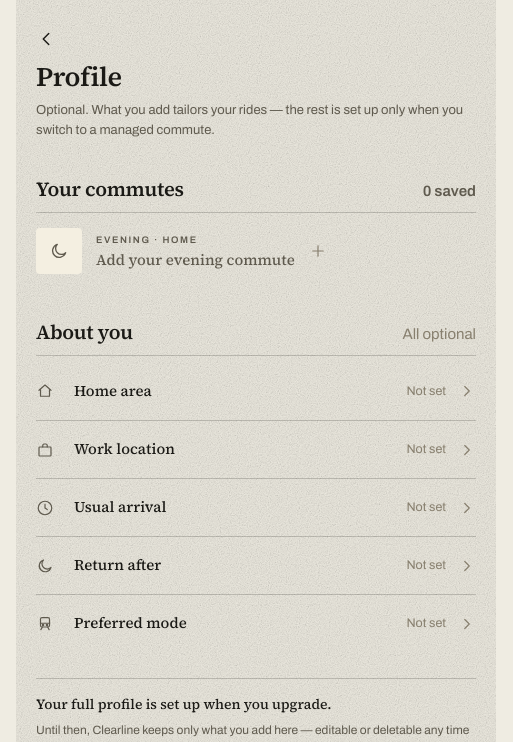
11 Profile › edits a field inline and PUTs it, then shows the new value
Click the button "Home area Not set" at (113, 390), box 36,362 -> 476,420
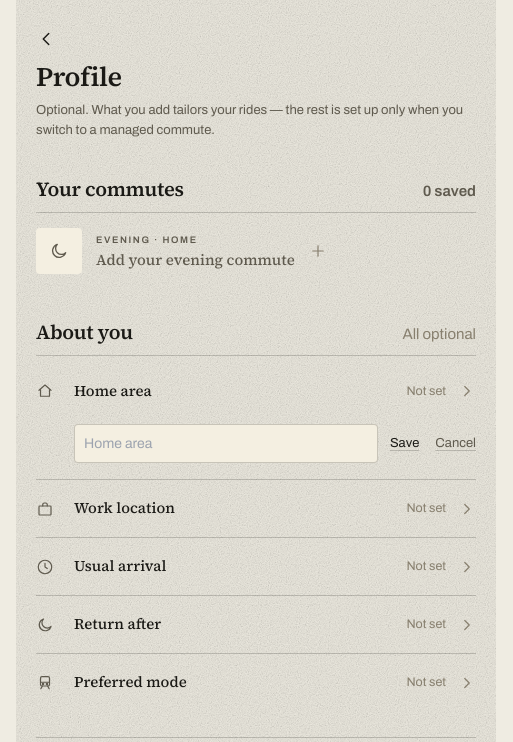
Type "Hauz Khas Enclave" into the field named "Set Home area" at (226, 444), box 74,424 -> 378,463
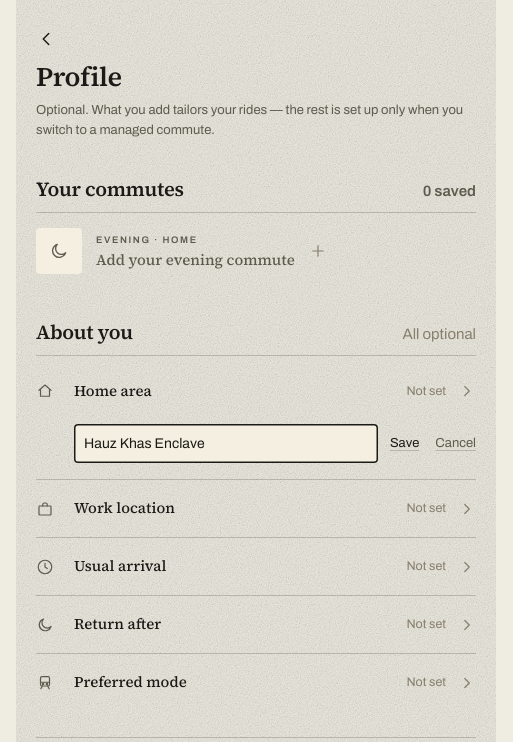
Click the button "Save" at (405, 444), box 390,434 -> 419,454
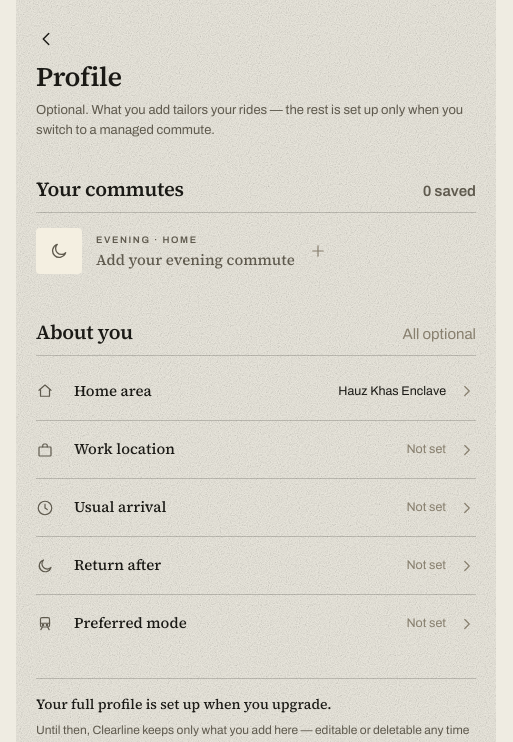
expect the text "Hauz Khas Enclave" is shown: met, box 338,382 -> 446,401
